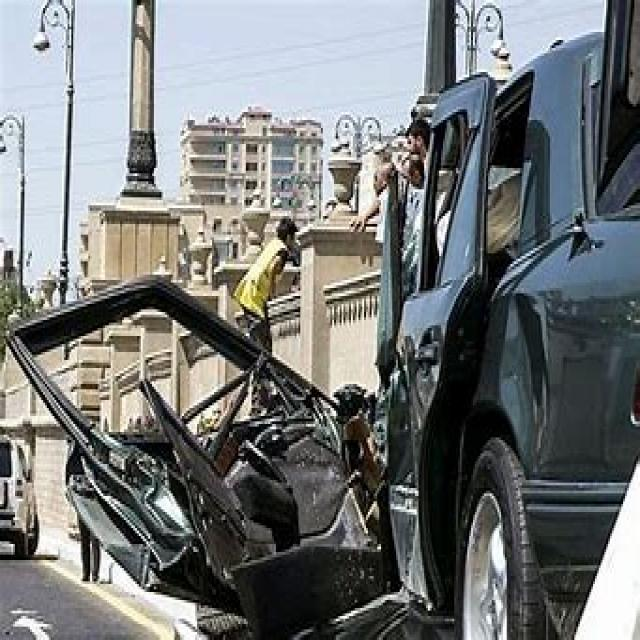Accident: (62, 160, 563, 640)
